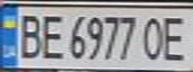6: (63, 11, 87, 61)
7: (118, 12, 142, 61), (103, 12, 121, 61)
9: (84, 12, 106, 61)
B: (12, 10, 45, 60)
E: (157, 11, 193, 63), (36, 11, 66, 61)
O: (139, 12, 169, 62)
